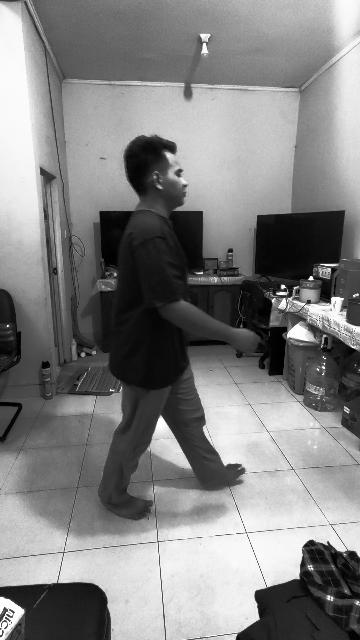berjalan: (94, 133, 252, 515)
